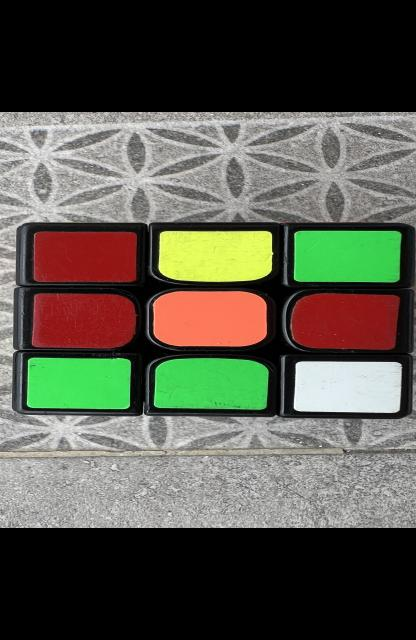Green: (153, 358, 268, 409), (293, 231, 401, 283), (26, 357, 130, 409)
Orange: (151, 292, 266, 347)
Red: (290, 293, 400, 350), (30, 293, 135, 348), (33, 231, 136, 283)
White: (293, 361, 401, 413)
Yellow: (158, 231, 271, 282)
